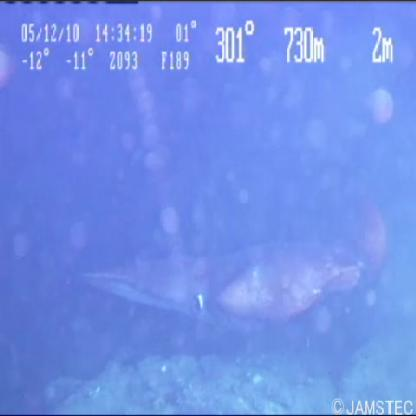Bio: (76, 194, 394, 346)
